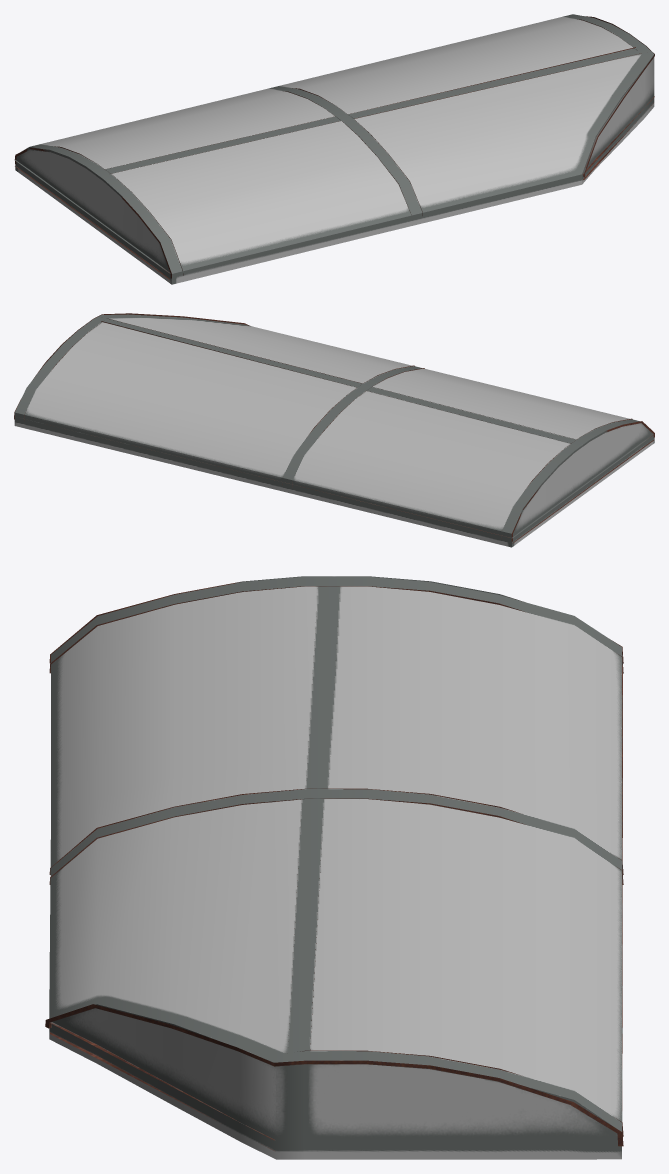
File: SM_Bed_Roof.fbx
3 renders of one model, top to bottom at view 1: azimuth 30°, elevation 25°; view 2: azimuth 150°, elevation 25°; view 3: azimuth 270°, elevation 25°, orthographic. The views are drawn at different scales.
Parts seen in each view (by area): view 1: SM_Bed_Roof; view 2: SM_Bed_Roof; view 3: SM_Bed_Roof.
Part boxes in pixels (<box>): SM_Bed_Roof: <box>14,14,654,284</box>; SM_Bed_Roof: <box>14,313,654,547</box>; SM_Bed_Roof: <box>45,576,623,1159</box>.
Bounding box in the file's own units: 460 × 231 × 44.35.
1 material, 1 textured.
